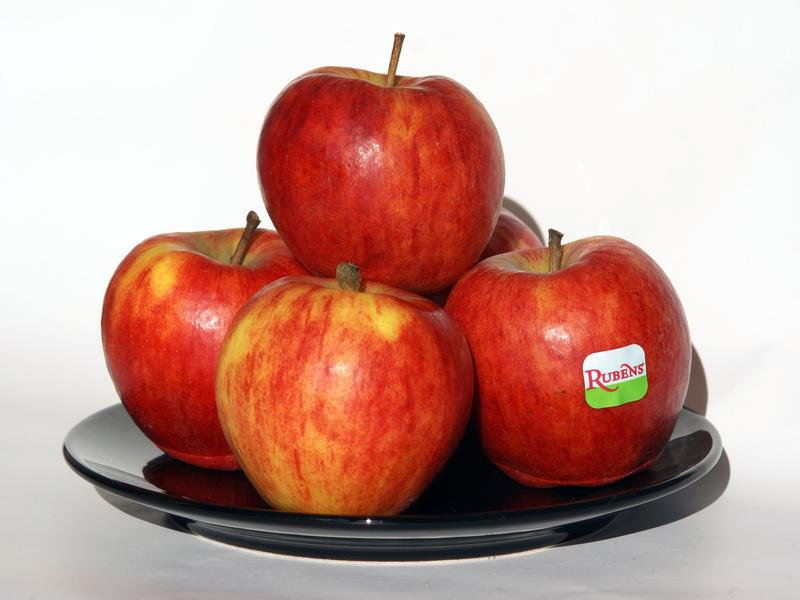apple: (90, 218, 364, 491), (442, 230, 719, 482), (257, 36, 514, 291), (223, 271, 472, 522)
